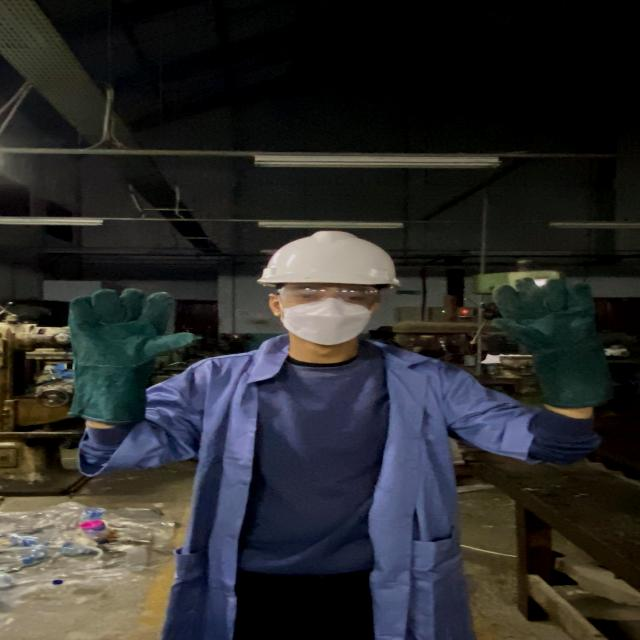face_mask: (270, 284, 386, 342)
glasses: (273, 284, 385, 304)
hand_glove: (56, 286, 204, 374), (483, 276, 601, 358)
head_helmet: (255, 230, 402, 288)
person: (44, 222, 616, 640)
